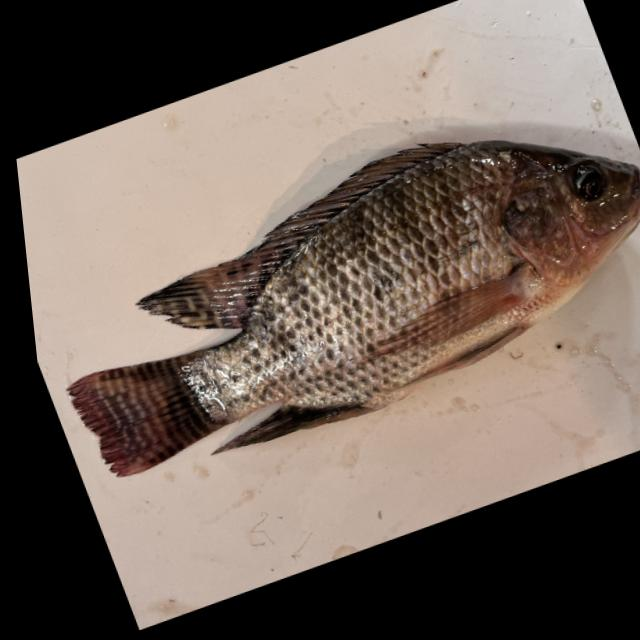Tilapia: (13, 70, 640, 510)
